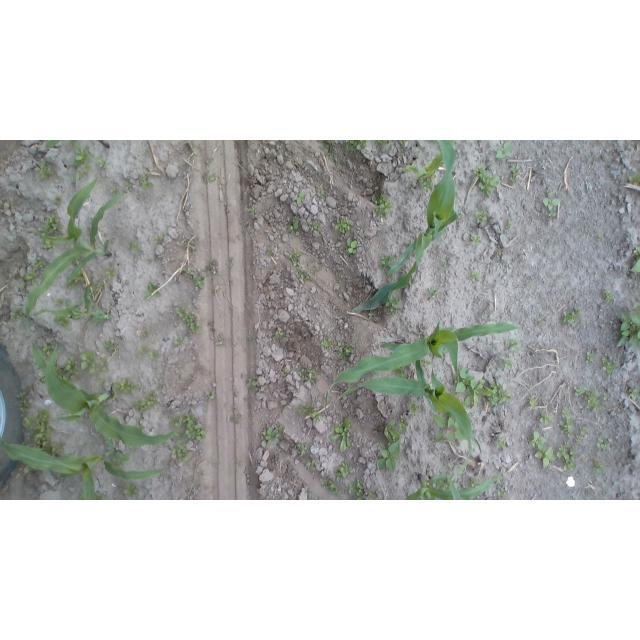Maize: (352, 140, 459, 314), (326, 320, 520, 412), (31, 339, 183, 447), (338, 340, 473, 453), (25, 176, 120, 317), (1, 438, 166, 500), (32, 284, 109, 322), (405, 473, 501, 500), (406, 154, 443, 183), (43, 141, 61, 150), (97, 140, 111, 148)
Weeds: (456, 367, 513, 406), (527, 431, 556, 469), (33, 411, 54, 454), (329, 418, 354, 454), (617, 312, 640, 351), (574, 383, 602, 414), (375, 443, 402, 474), (176, 304, 203, 335), (81, 353, 112, 376), (183, 414, 208, 441), (477, 168, 500, 197), (261, 423, 284, 450), (557, 442, 578, 470), (434, 414, 454, 443), (371, 192, 393, 218), (377, 419, 401, 442), (542, 187, 560, 217), (558, 406, 574, 439), (55, 357, 77, 380), (39, 213, 62, 235), (134, 392, 159, 412), (347, 479, 368, 500), (560, 306, 581, 327), (182, 268, 204, 288), (91, 303, 110, 326), (136, 345, 160, 363), (297, 402, 320, 420), (333, 217, 355, 235), (297, 365, 319, 383), (17, 390, 33, 414), (337, 460, 356, 480), (602, 356, 621, 376), (35, 162, 54, 182), (74, 143, 91, 165), (324, 140, 339, 162), (144, 280, 160, 300), (179, 236, 198, 252), (597, 433, 612, 453), (496, 142, 513, 159), (336, 343, 352, 361), (346, 140, 366, 154), (296, 268, 313, 284), (172, 446, 188, 463), (592, 458, 609, 474), (122, 483, 140, 498), (288, 216, 302, 235), (500, 357, 516, 373), (506, 167, 519, 186), (119, 380, 138, 393), (323, 477, 338, 493), (398, 413, 410, 433), (289, 249, 302, 267), (425, 287, 439, 303), (56, 317, 72, 331), (421, 176, 436, 190), (205, 260, 219, 275), (104, 341, 123, 352), (508, 339, 524, 352), (536, 413, 552, 426), (346, 238, 358, 255), (387, 296, 402, 309), (42, 343, 55, 358), (314, 183, 327, 197), (203, 172, 217, 185), (96, 280, 109, 294), (168, 415, 180, 430), (321, 336, 332, 352), (383, 253, 394, 269), (393, 368, 410, 378), (295, 443, 308, 456), (129, 242, 142, 255), (25, 272, 38, 285), (601, 289, 613, 303), (475, 210, 487, 224), (8, 308, 22, 320), (54, 439, 65, 454), (630, 172, 640, 188), (36, 373, 46, 388), (409, 402, 421, 414), (628, 388, 640, 400), (527, 397, 539, 409), (2, 268, 13, 281), (141, 175, 152, 188), (41, 239, 55, 249), (470, 236, 483, 246), (97, 155, 107, 168), (104, 268, 117, 278), (249, 379, 262, 389), (30, 260, 46, 268), (631, 259, 640, 273), (587, 351, 596, 365), (470, 272, 484, 281), (296, 192, 305, 206), (367, 488, 377, 500), (75, 272, 85, 284), (268, 245, 276, 260), (495, 439, 507, 449), (175, 432, 185, 444), (275, 327, 284, 340), (469, 478, 480, 488), (23, 417, 33, 428), (206, 391, 217, 401), (578, 424, 587, 436), (140, 328, 150, 338), (76, 169, 86, 179), (538, 319, 549, 328), (632, 246, 640, 258), (305, 459, 315, 468), (497, 490, 507, 499), (506, 220, 515, 230), (98, 378, 106, 389), (377, 140, 391, 146), (56, 298, 65, 307), (110, 188, 119, 197), (576, 437, 584, 447), (311, 221, 319, 231), (54, 195, 62, 205), (283, 367, 290, 378), (580, 454, 589, 462), (174, 338, 182, 347), (206, 157, 215, 165), (633, 302, 640, 312), (422, 360, 430, 368), (156, 381, 164, 389), (247, 333, 254, 342), (156, 235, 164, 242), (192, 149, 200, 156), (125, 182, 132, 190), (95, 491, 101, 500), (603, 393, 609, 402), (598, 235, 606, 241), (244, 207, 252, 213), (399, 140, 408, 145), (67, 281, 74, 287), (140, 149, 146, 156), (526, 282, 533, 287), (85, 165, 92, 170), (22, 283, 26, 290)
